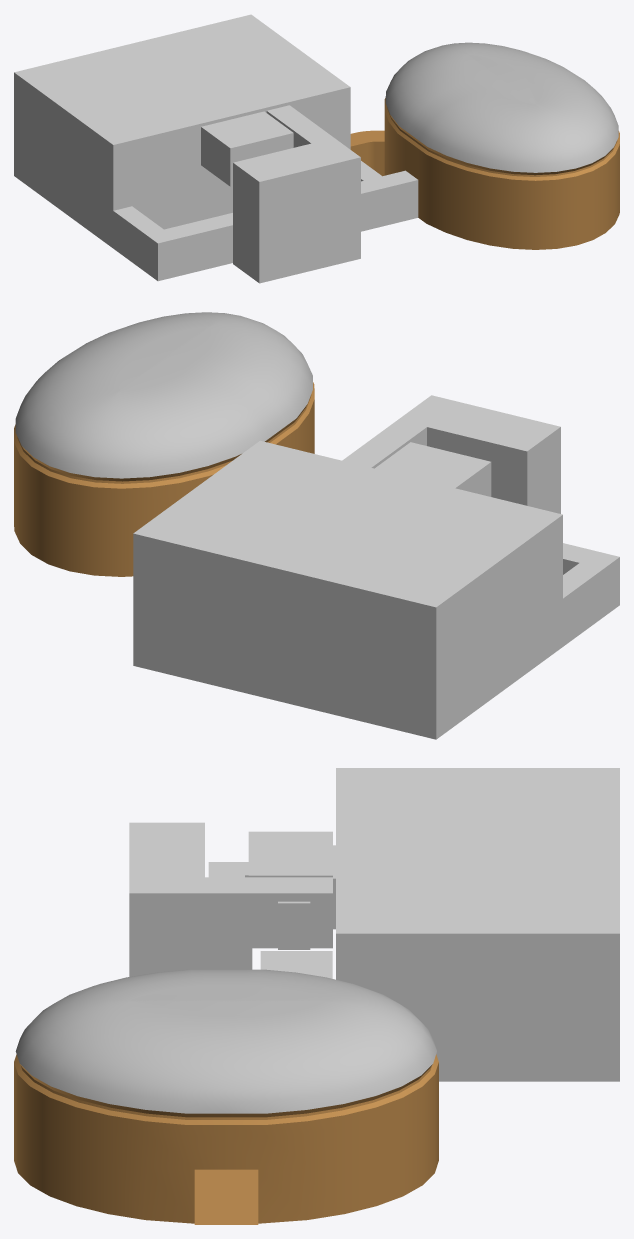
The model's file is mapgoodlfoor.fbx.
The picture shows the model from 3 angles, top to bottom: view 1: azimuth 30°, elevation 25°; view 2: azimuth 150°, elevation 25°; view 3: azimuth 270°, elevation 25°; orthographic projection. The views are drawn at different scales.
Visible parts, largest first — view 1: Cube, Cylinder.003; view 2: Cube, Cylinder.003; view 3: Cube, Cylinder.003, Cylinder.004.
Part boxes in pixels (x1,y1,x2,y2): Cube: (14,14,418,283); Cylinder.003: (350,42,619,249); Cube: (133,395,619,739); Cylinder.003: (14,312,314,576); Cube: (129,768,619,1081); Cylinder.003: (14,969,438,1223); Cylinder.004: (194,1170,258,1224).
Bounding box in the file's own units: 11975 × 2892 × 9935.
